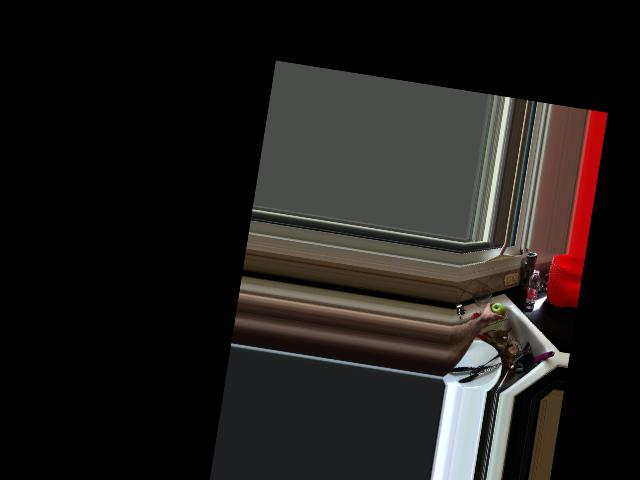apple: (489, 300, 506, 320)
